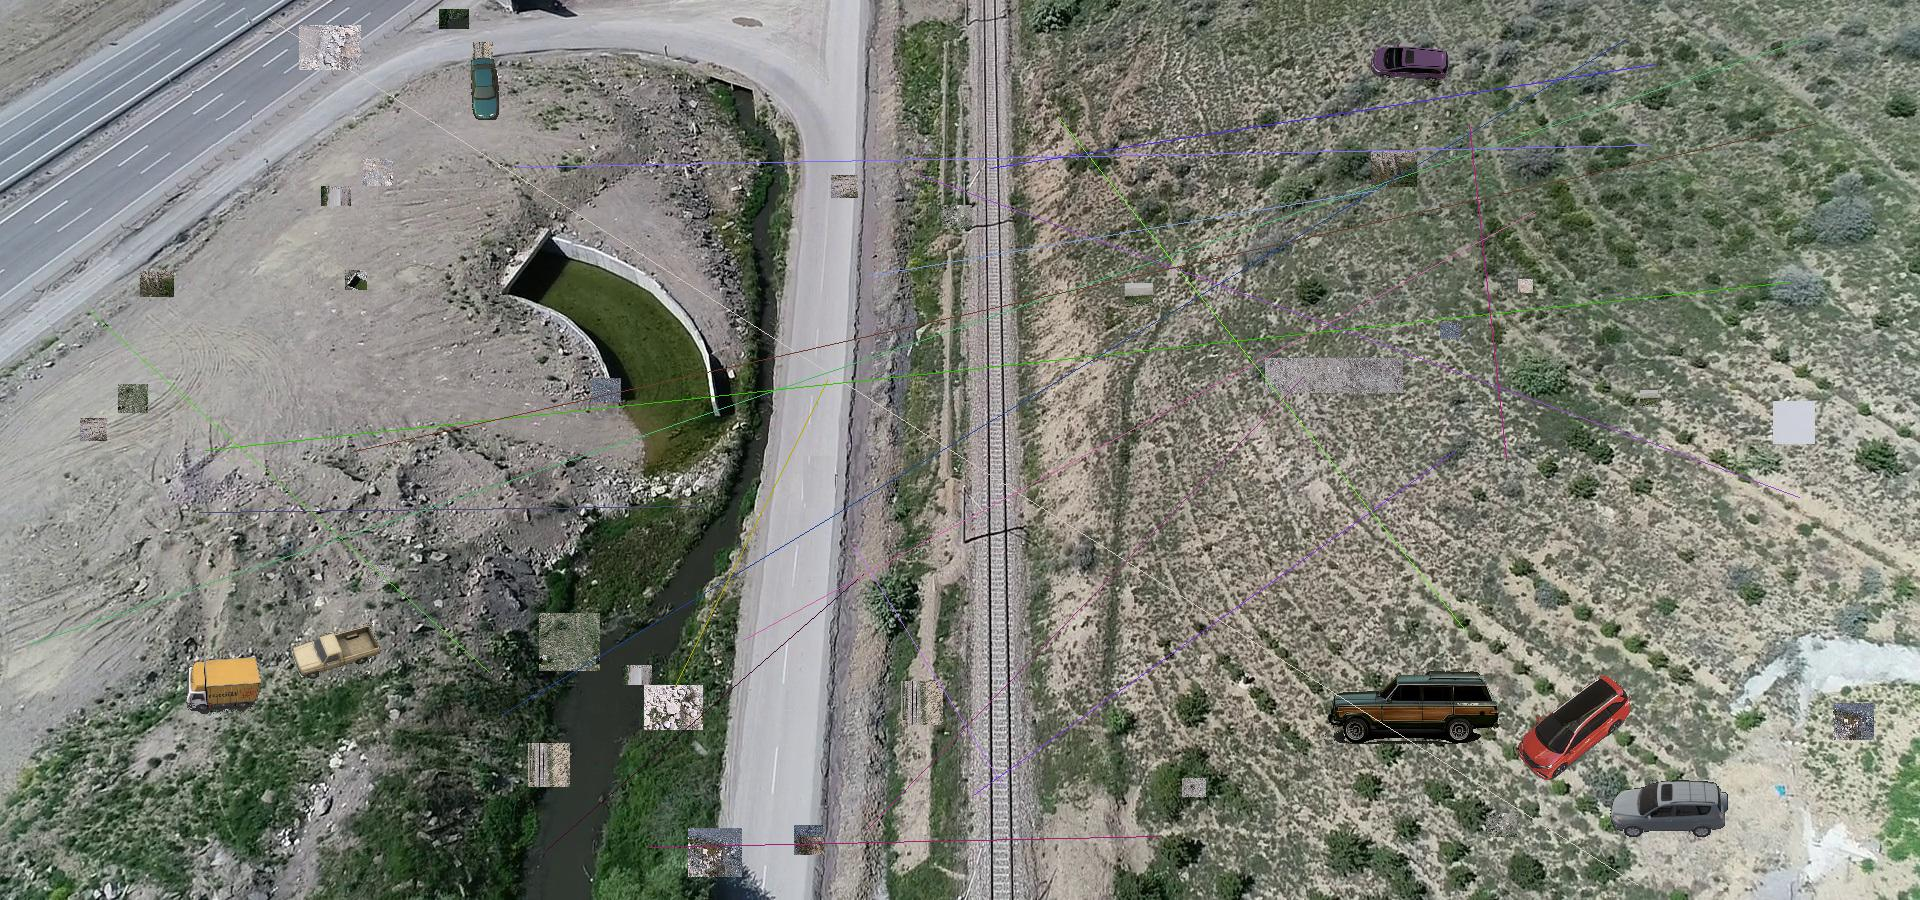arac: (1322, 669, 1502, 749), (1502, 676, 1632, 781), (1608, 779, 1735, 840), (291, 623, 381, 681), (184, 658, 261, 714), (1370, 42, 1449, 82), (470, 58, 500, 120)
